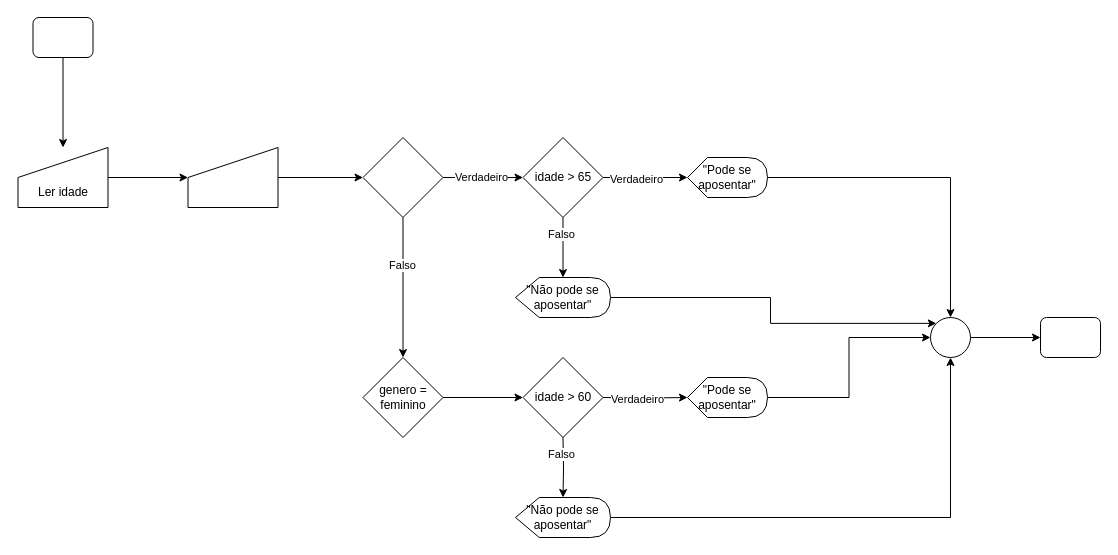
This 1118x555 diagram has some shape labels left out. Here are the shapes that lost their labels. From the top down, the centre of each, then its label:
the point at 62,37: Início
the point at 232,177: Ler genero
the point at 402,177: genero = masculino
the point at 1070,337: Fim
